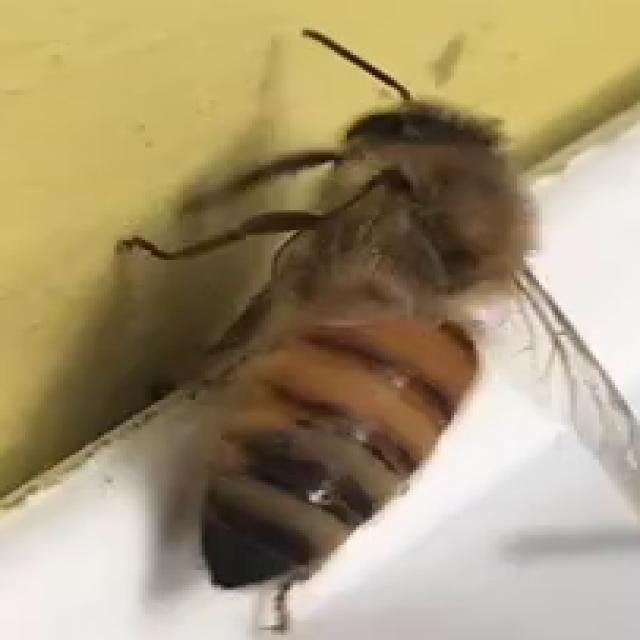honeybee: (131, 60, 635, 627)
